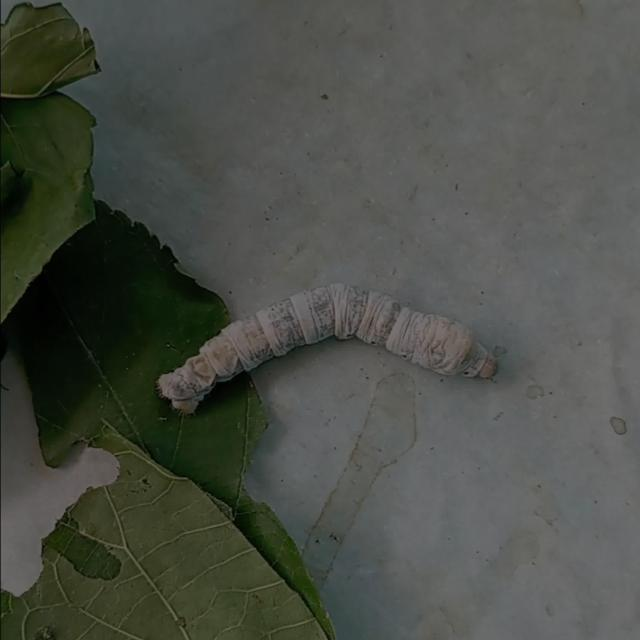Grasserie: (146, 258, 556, 461)
